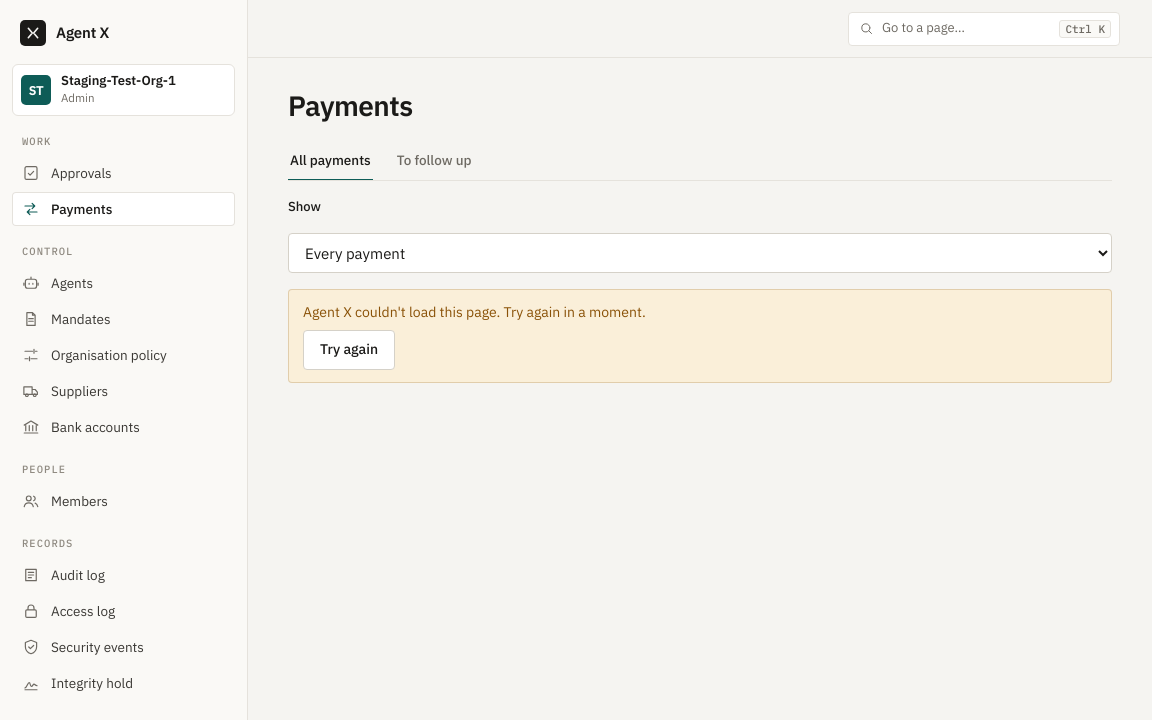
Test: the payments list (6C1) › says a list that couldn’t load failed, and reads it again on a retry
Click the button "Try again": {"x": 349, "y": 350} [303,330,395,370]
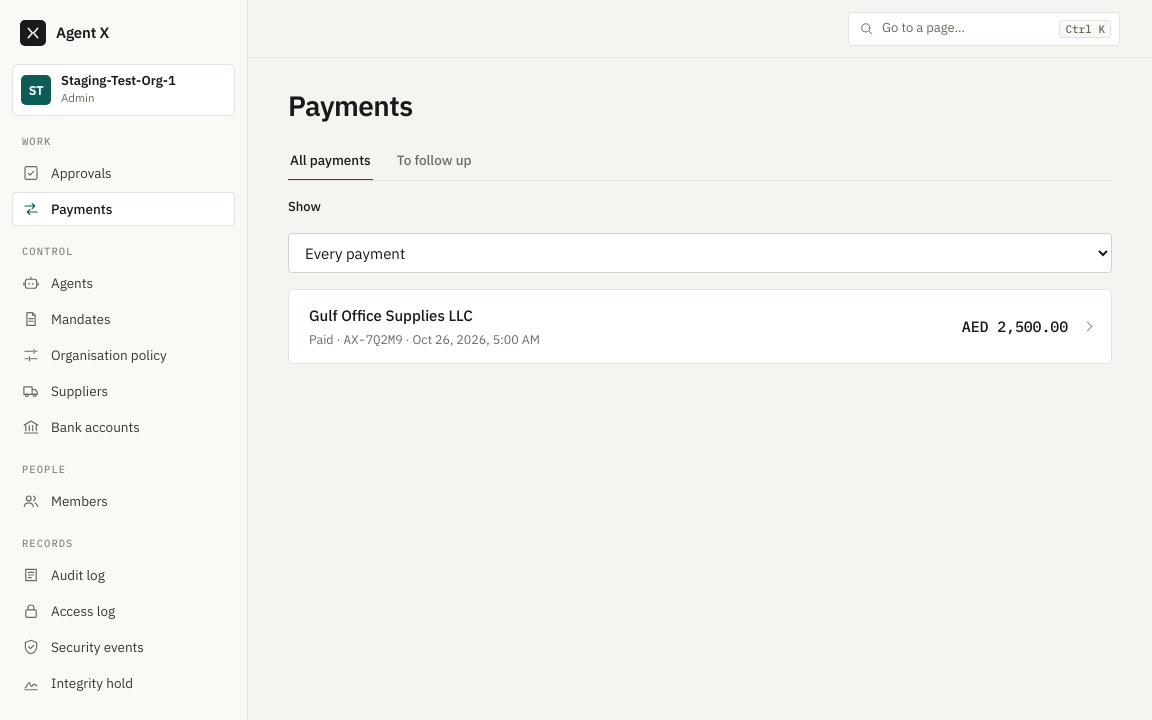
Result: the text "Gulf Office Supplies LLC" is shown at [309,306,473,325]
